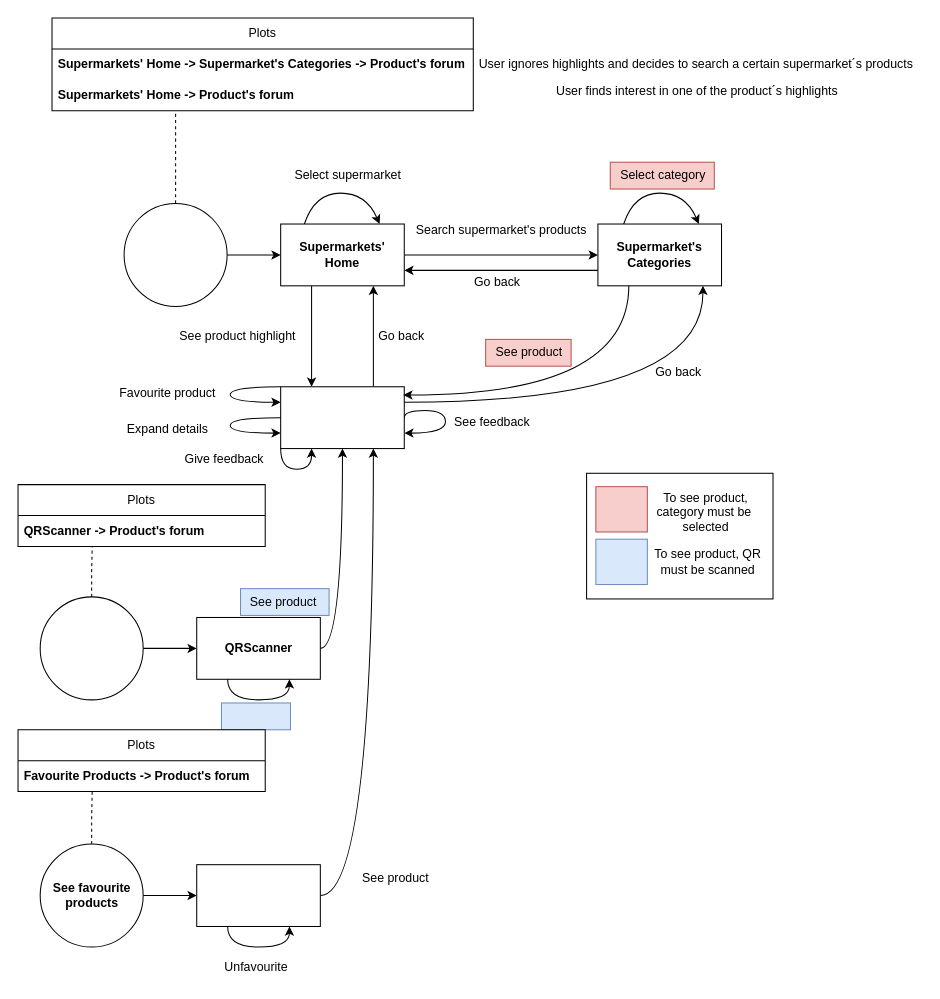
Image size: 940x999. Some labels were removed from this diagram. The box of each missing label's shape, as (x1, y1, x2, y2) in pixels:
Favourite Products: (196, 864, 320, 926)
Product's forum: (280, 386, 404, 449)
Scan QR: (220, 702, 290, 730)
ScanQR: (39, 596, 143, 700)
Search Products and Supermarkets: (123, 202, 227, 306)
